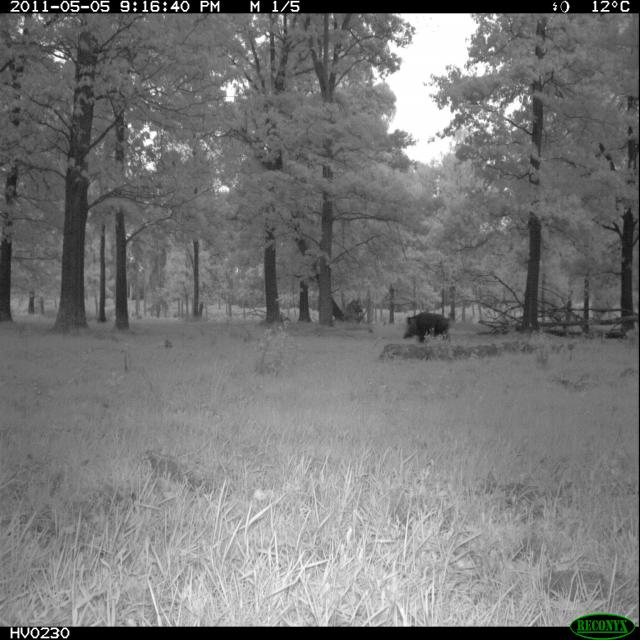boar: (393, 286, 460, 364)
